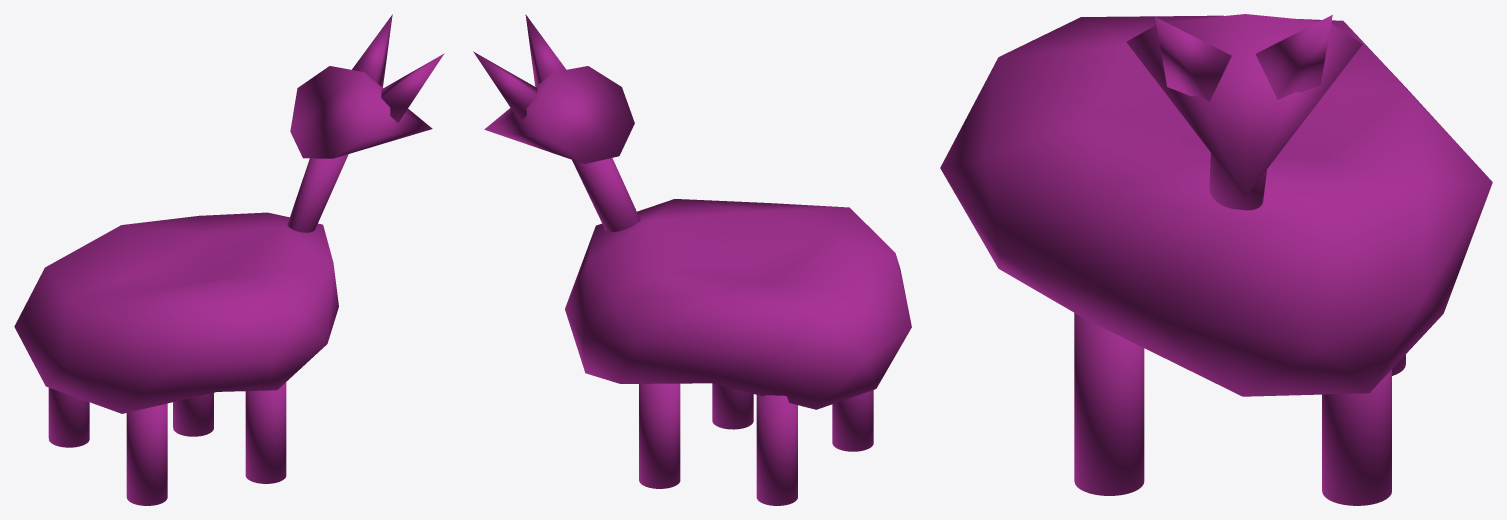
File: pinkdonkey.obj
The picture shows the model from 3 angles, left to right: view 1: azimuth 30°, elevation 25°; view 2: azimuth 150°, elevation 25°; view 3: azimuth 270°, elevation 25°; orthographic projection. The views are drawn at different scales.
Parts seen in each view (by area): view 1: Icosphere; view 2: Icosphere; view 3: Icosphere.
Boxes of the visible parts, box(x1,y1,x2,y2) form: Icosphere: box(14, 14, 444, 505); Icosphere: box(473, 14, 911, 505); Icosphere: box(940, 14, 1492, 505).
Bounding box in the file's own units: 2.58 × 2.3 × 1.81.
